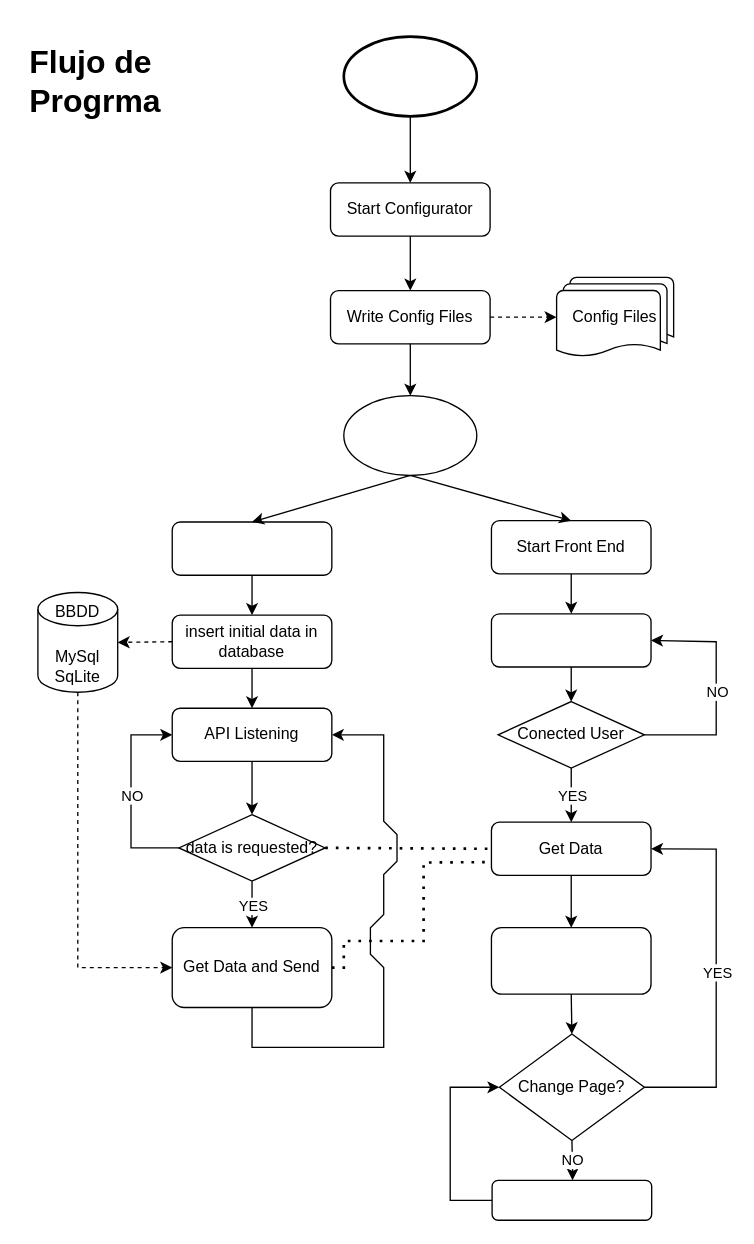
Image size: 754x1244. Some labels were removed from this diagram. Here are the shapes that lost their labels. From the top down, the centre of each, then its label:
At (x=409, y=76): "Auto Start".
At (x=409, y=434): "Start Threads".
At (x=251, y=548): "Start BackEnd".
At (x=570, y=639): "waiting for user".
At (x=570, y=960): "Send Template to User".
At (x=571, y=1199): "Wait".
